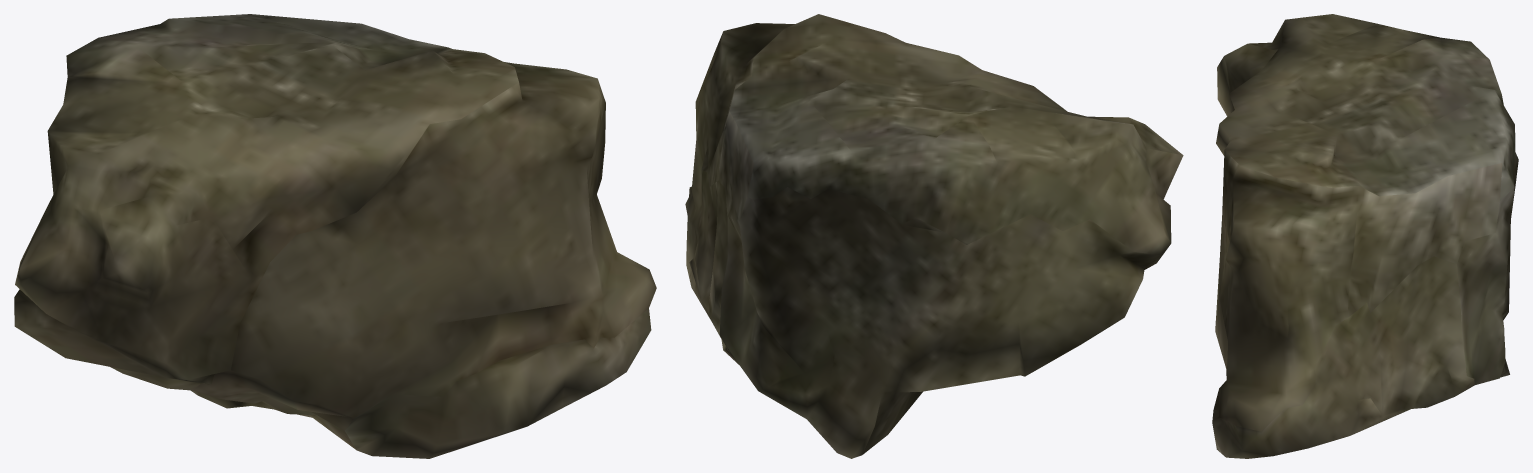
File: moss_rock_6.glb
3 renders of one model, left to right at view 1: azimuth 30°, elevation 25°; view 2: azimuth 150°, elevation 25°; view 3: azimuth 270°, elevation 25°, orthographic. The views are drawn at different scales.
Visible parts, largest first — view 1: rock_moss_set_02_rock13; view 2: rock_moss_set_02_rock13; view 3: rock_moss_set_02_rock13.
Boxes of the visible parts, x1,y1,x2,y2 form: rock_moss_set_02_rock13: (14, 14, 656, 458); rock_moss_set_02_rock13: (685, 14, 1183, 458); rock_moss_set_02_rock13: (1212, 14, 1518, 458).
Bounding box in the file's own units: 2.09 × 1.25 × 1.14.
Materials: 1 (1 with a texture image).
